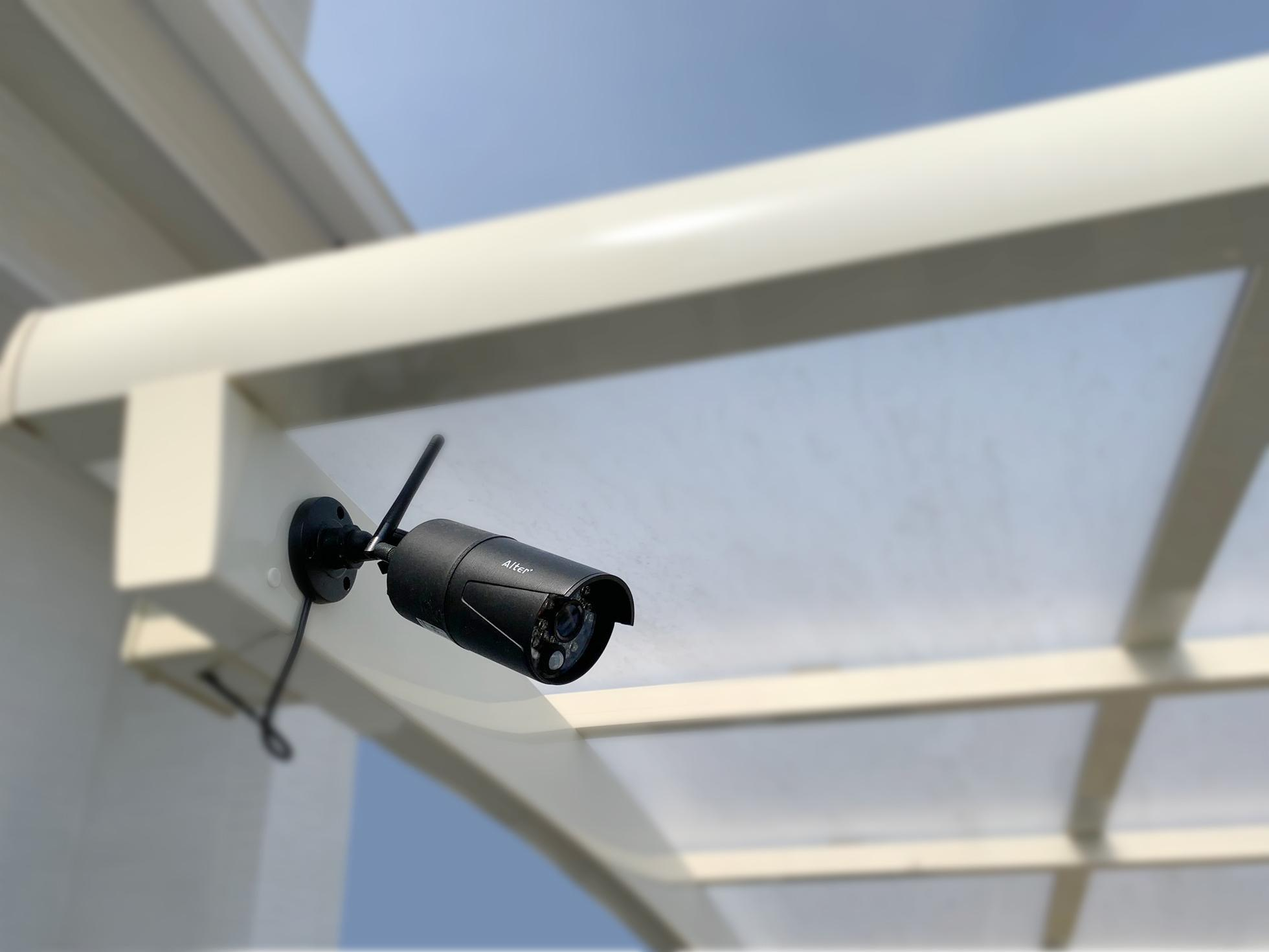tutu: (363, 494, 680, 723)
